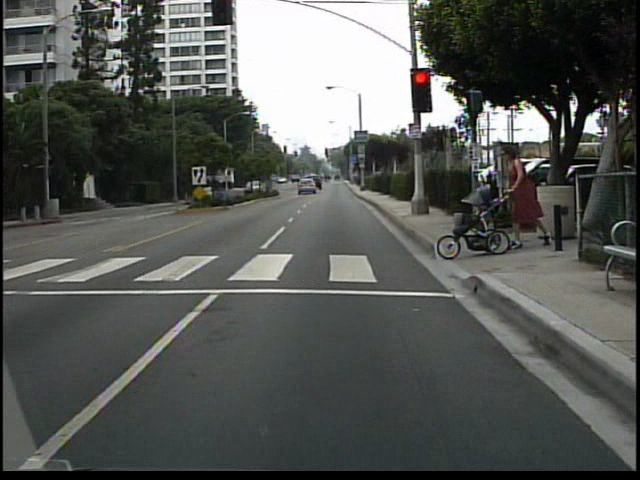person: (500, 146, 553, 253)
